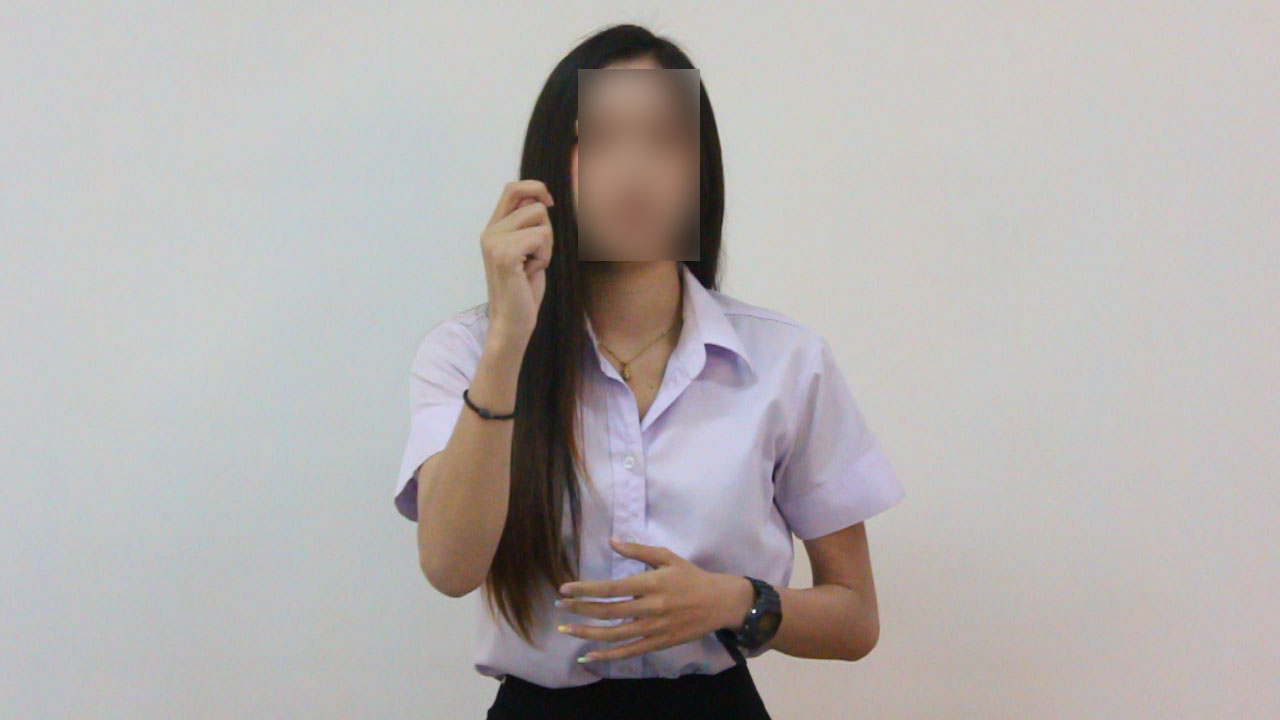or: (470, 171, 566, 359)
